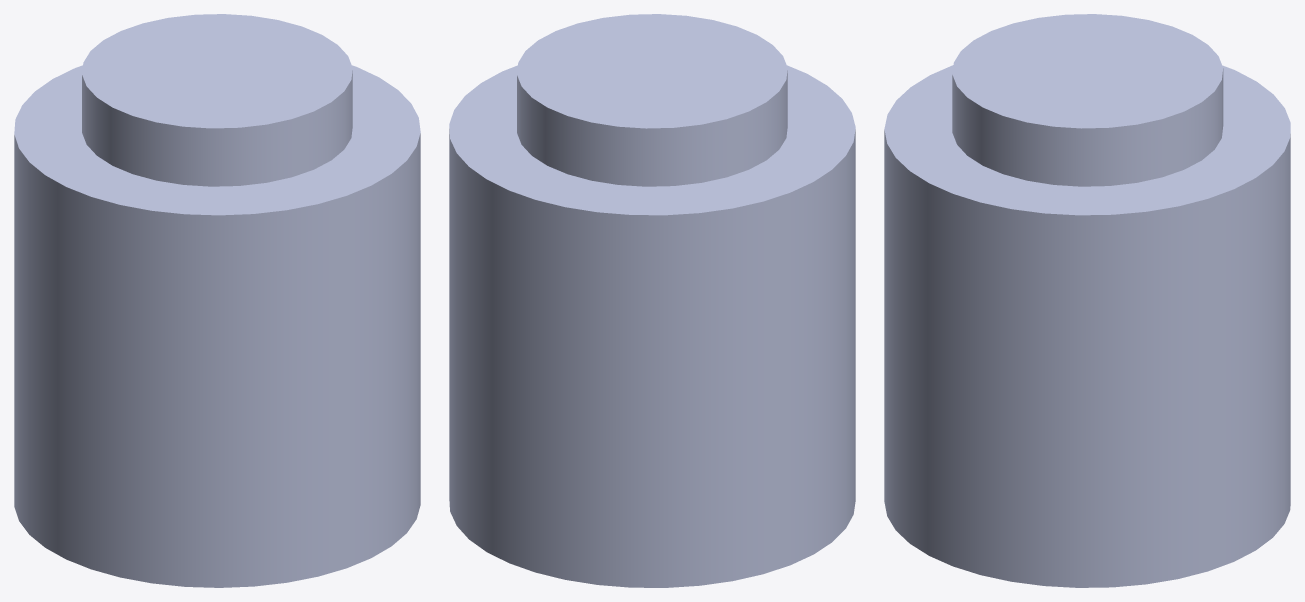
3 renders of one model, left to right at view 1: azimuth 30°, elevation 25°; view 2: azimuth 150°, elevation 25°; view 3: azimuth 270°, elevation 25°, orthographic.
Parts seen in each view (by area): view 1: FBXASC195FBXASC141FBXASC194FBXASC185FBXASC195FBXASC140FBXASC; view 2: FBXASC195FBXASC141FBXASC194FBXASC185FBXASC195FBXASC140FBXASC; view 3: FBXASC195FBXASC141FBXASC194FBXASC185FBXASC195FBXASC140FBXASC.
Part boxes in pixels (x1,y1,x2,y2): FBXASC195FBXASC141FBXASC194FBXASC185FBXASC195FBXASC140FBXASC: (14,14,420,587); FBXASC195FBXASC141FBXASC194FBXASC185FBXASC195FBXASC140FBXASC: (449,14,855,587); FBXASC195FBXASC141FBXASC194FBXASC185FBXASC195FBXASC140FBXASC: (884,14,1290,587).
Size of the model in its own units: 0.0569 by 0.0569 by 0.0666.
